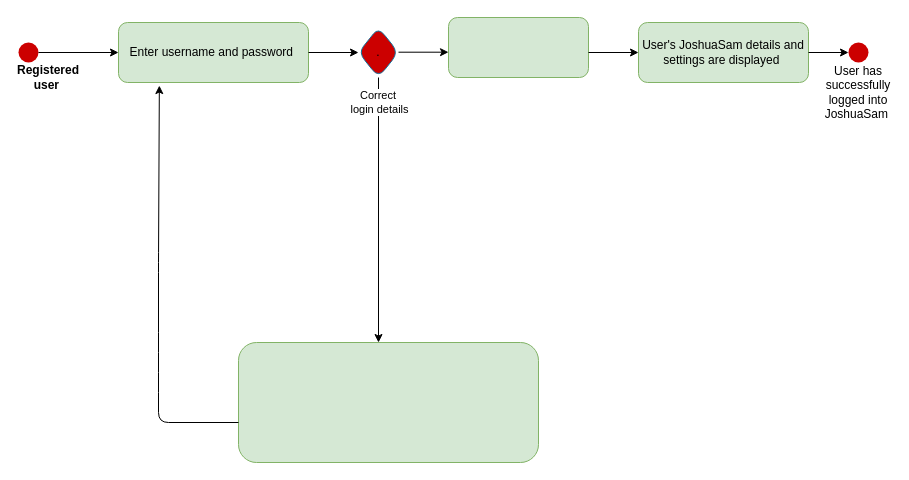
The diagram is 909 pixels wide and 480 high, and some of its shapes have lost their labels. Here are the shapes that lost their labels. From the top down, the centre of each, then its label:
the point at 518,47: Successful Login
the point at 388,402: Invalid username and/ or password
